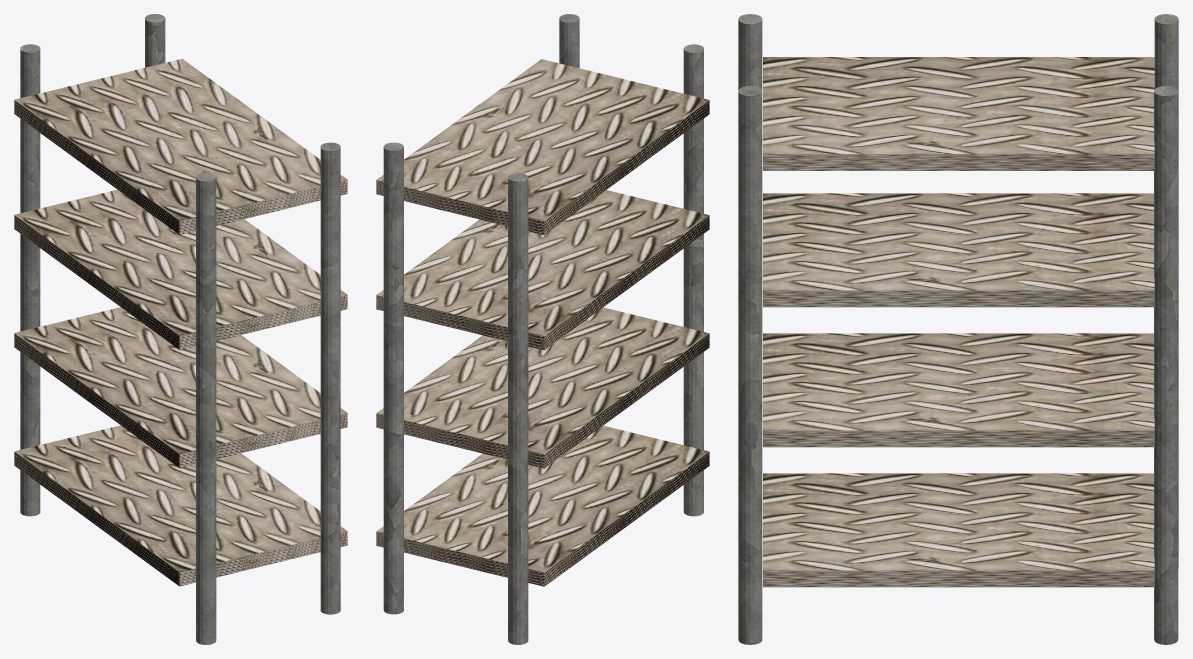
File: kastje.fbx
3 renders of one model, left to right at view 1: azimuth 30°, elevation 25°; view 2: azimuth 150°, elevation 25°; view 3: azimuth 270°, elevation 25°, orthographic. The views are drawn at different scales.
Visible parts, largest first — view 1: Cylinder; view 2: Cylinder; view 3: Cylinder.
Part boxes in pixels (box(x1,y1,x2,y2)): Cylinder: box(14, 14, 347, 644); Cylinder: box(376, 14, 709, 644); Cylinder: box(738, 14, 1178, 644).
Bounding box in the file's own units: 0.7598 × 2 × 1.45.
